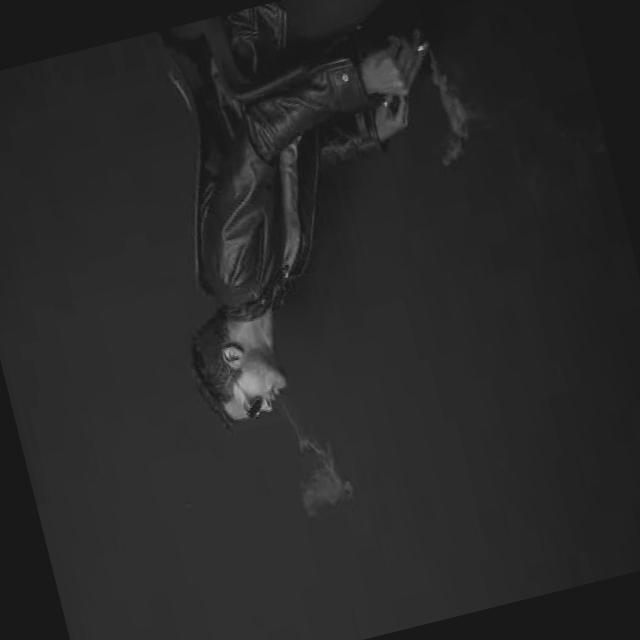smoke: (411, 35, 434, 59)
